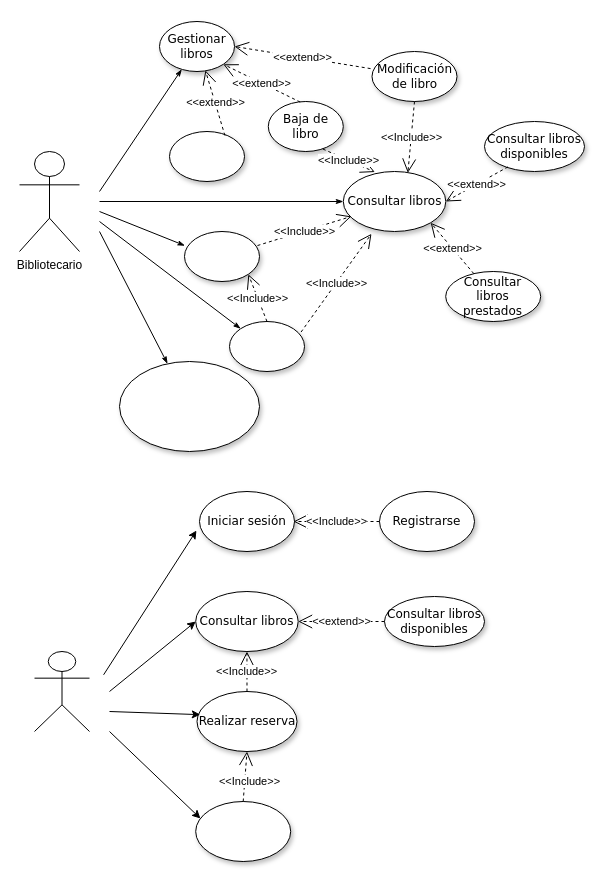
Image size: 608x886. Some labels were removed from this diagram. Each missing label, with the centre of its shape:
Alta de libro: point (207, 157)
Consultar Historial de reservas: point (244, 832)
Consultar Historial de todos los préstamos realizados: point (190, 407)
Devolver libro: point (267, 347)
Realizar préstamo: point (223, 257)
Usuario: point (62, 691)
